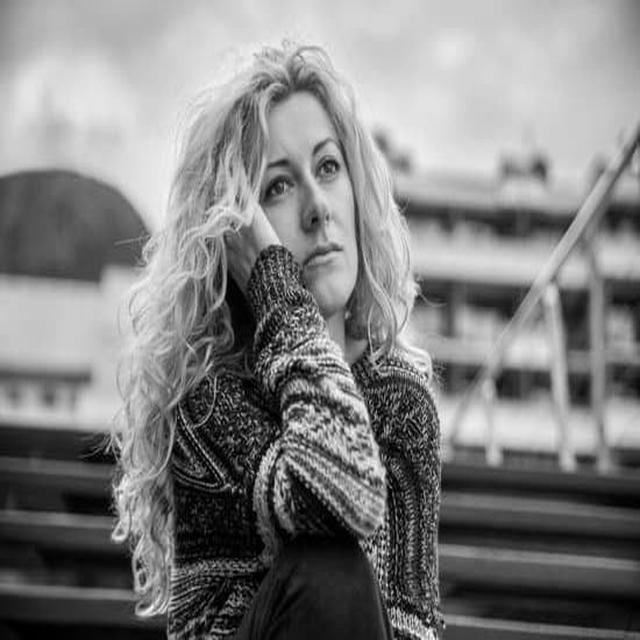Sadness: (258, 94, 358, 316)
